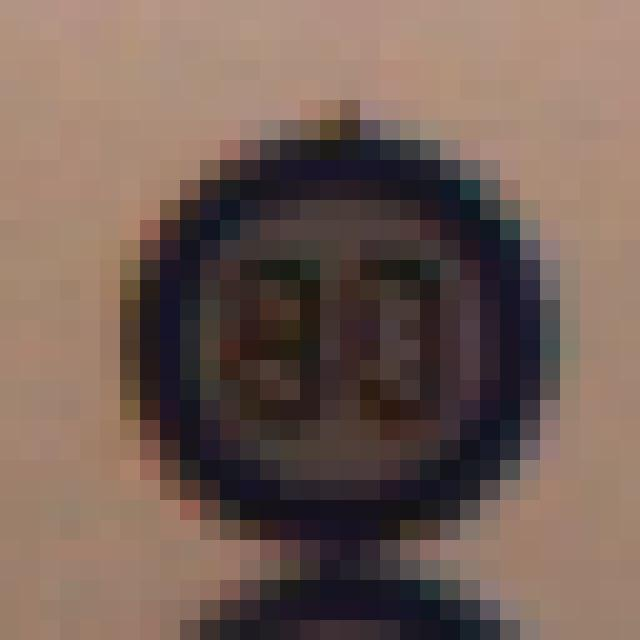SPEED-LIMIT-80: (120, 133, 556, 532)
